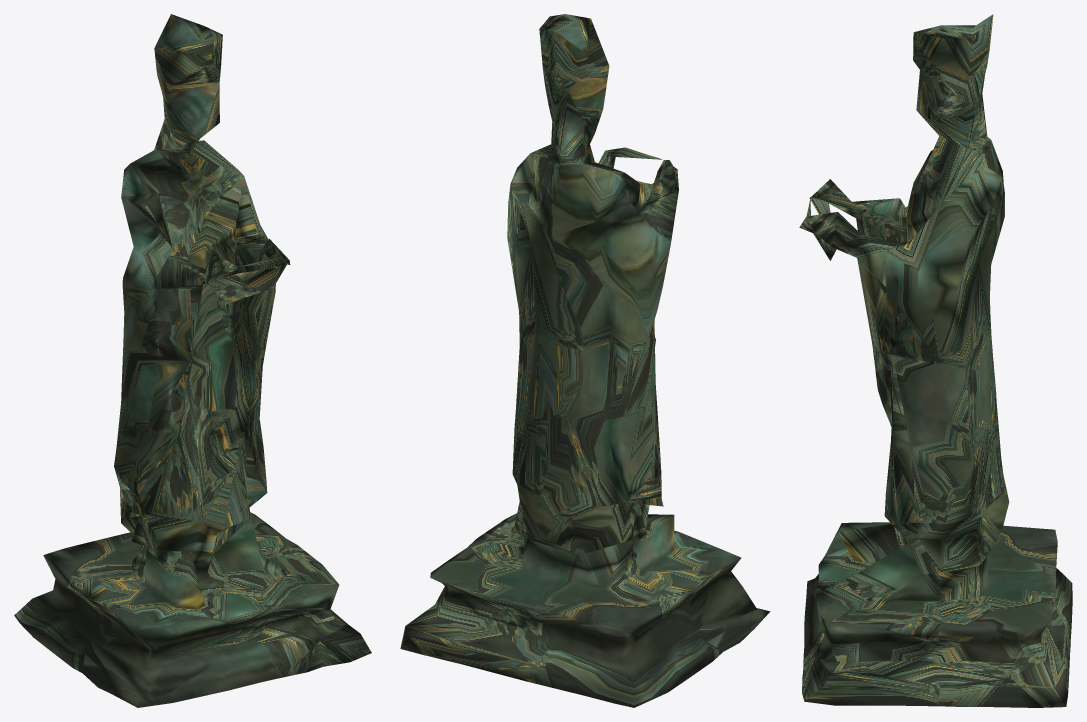
File: s_priest_far.glb
The picture shows the model from 3 angles, left to right: view 1: azimuth 30°, elevation 25°; view 2: azimuth 150°, elevation 25°; view 3: azimuth 270°, elevation 25°; orthographic projection. The views are drawn at different scales.
Parts seen in each view (by area): view 1: tripo_node_36f8c94a-926e-46f8-9284-f7b78638a441; view 2: tripo_node_36f8c94a-926e-46f8-9284-f7b78638a441; view 3: tripo_node_36f8c94a-926e-46f8-9284-f7b78638a441.
Boxes of the visible parts, x1,y1,x2,y2 form: tripo_node_36f8c94a-926e-46f8-9284-f7b78638a441: (14,14,371,707); tripo_node_36f8c94a-926e-46f8-9284-f7b78638a441: (400,14,770,707); tripo_node_36f8c94a-926e-46f8-9284-f7b78638a441: (799,14,1072,707).
Size of the model in its own units: 0.424 by 0.9968 by 0.3895.
Materials: 1 (1 with a texture image).
